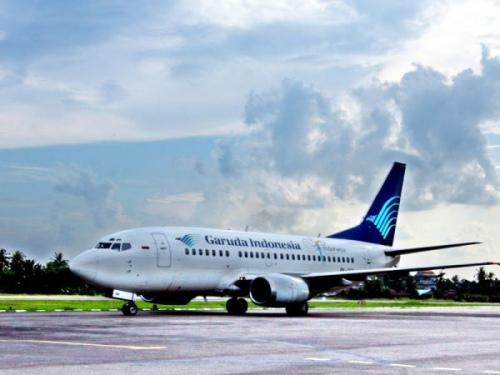airplane: (64, 161, 500, 315)
